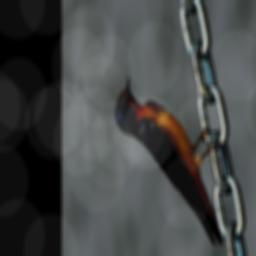Swallow: (105, 74, 237, 248)
